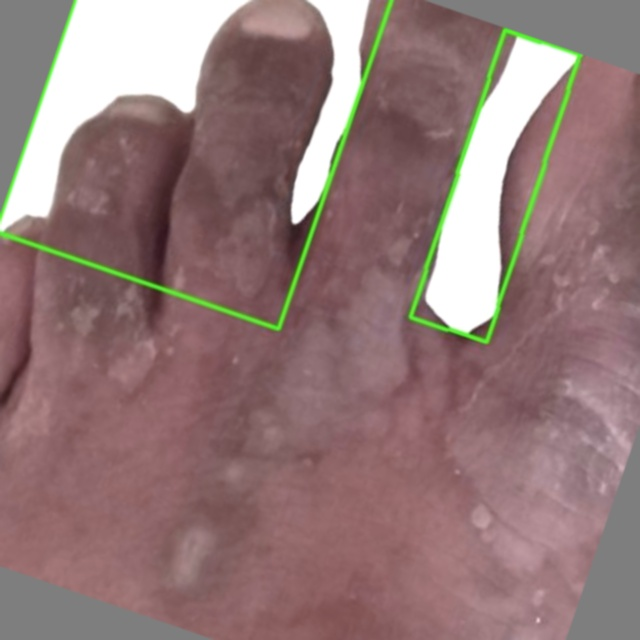Eczema: (0, 0, 391, 329), (410, 29, 580, 341)
